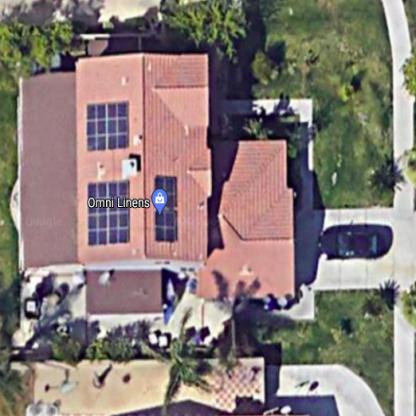car: (316, 217, 384, 263)
solar_panel: (80, 173, 136, 250), (79, 93, 135, 154), (146, 168, 184, 248)
